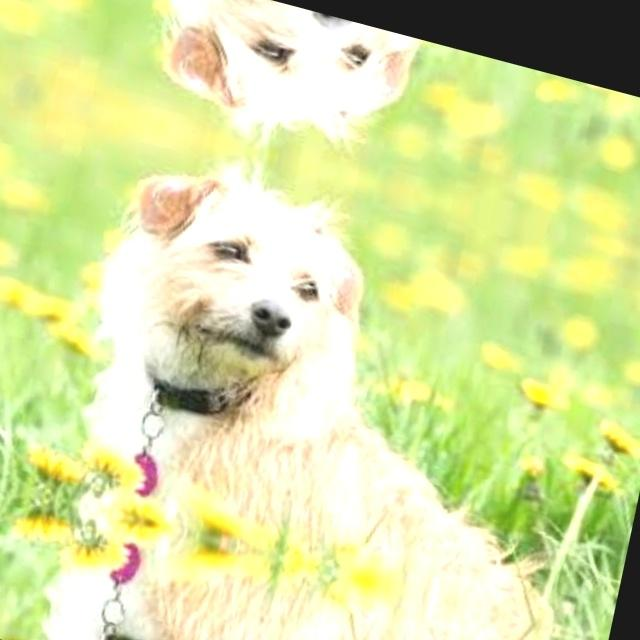dog: (54, 132, 552, 608), (136, 0, 586, 217), (22, 497, 476, 640)
